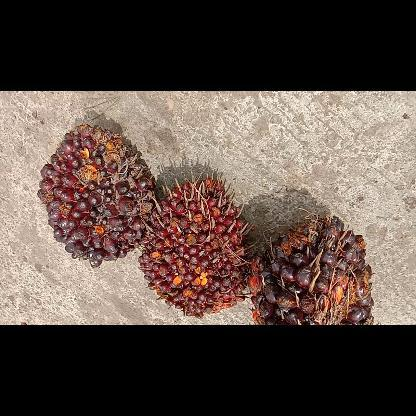Kurang masak: (38, 126, 152, 266), (140, 176, 249, 318)
TBS masak: (250, 214, 374, 324)
